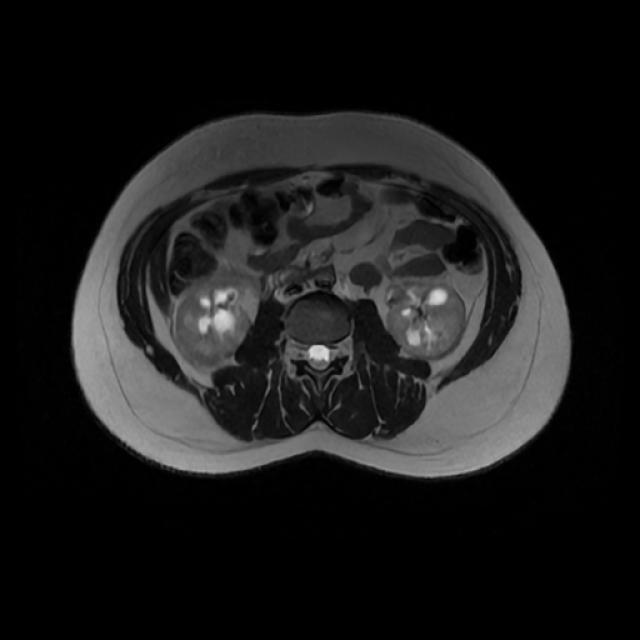sag: (175, 272, 255, 366)
sol: (385, 276, 469, 361)
